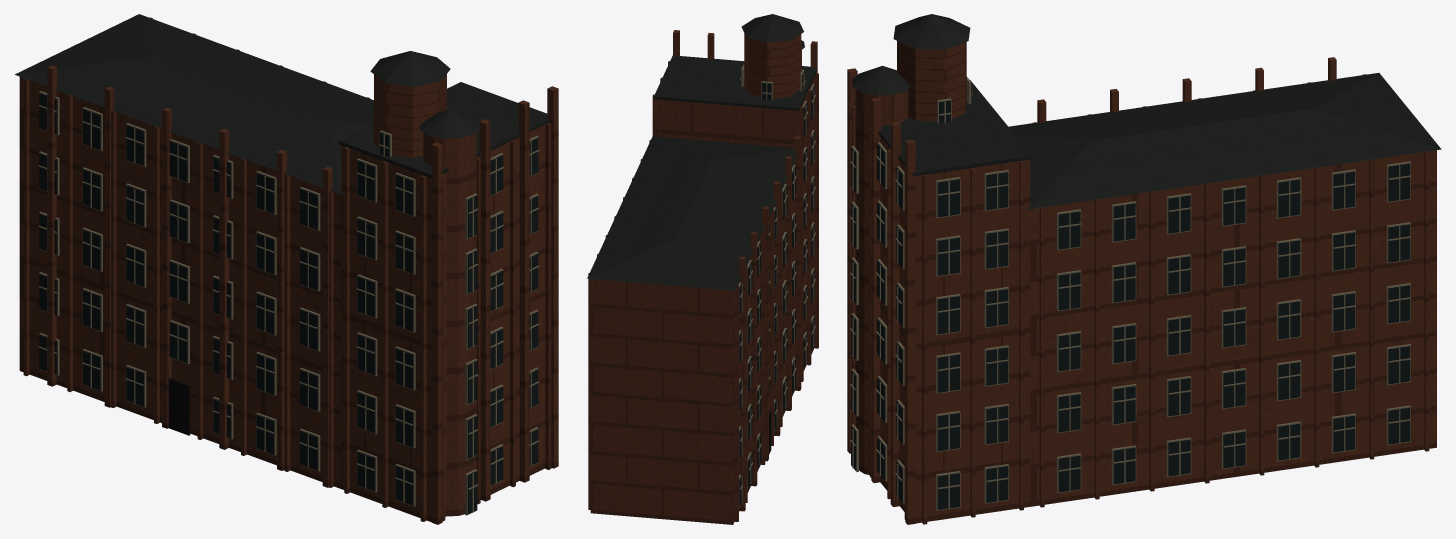
3 renders of one model, left to right at view 1: azimuth 30°, elevation 25°; view 2: azimuth 150°, elevation 25°; view 3: azimuth 270°, elevation 25°, orthographic. The views are drawn at different scales.
Visible parts, largest first — view 1: noordzee-0, noordzee-3, noordzee-2, noordzee-1, noordzee-4; view 2: noordzee-0, noordzee-3, noordzee-2, noordzee-1; view 3: noordzee-0, noordzee-3, noordzee-2, noordzee-1.
Part boxes in pixels (x1,y1,x2,y2): noordzee-0: (19,17,558,524); noordzee-3: (15,14,549,194); noordzee-2: (39,93,538,514); noordzee-1: (38,91,539,515); noordzee-4: (168,378,190,435); noordzee-0: (588,30,818,524); noordzee-3: (587,14,817,290); noordzee-2: (739,66,814,506); noordzee-1: (738,65,815,507); noordzee-0: (847,41,1436,524); noordzee-3: (851,14,1441,209); noordzee-2: (851,82,1410,509); noordzee-1: (850,76,1410,510).
Bounding box in the file's own units: 23.57 × 31.9 × 38.71.
5 materials, 5 textured.
